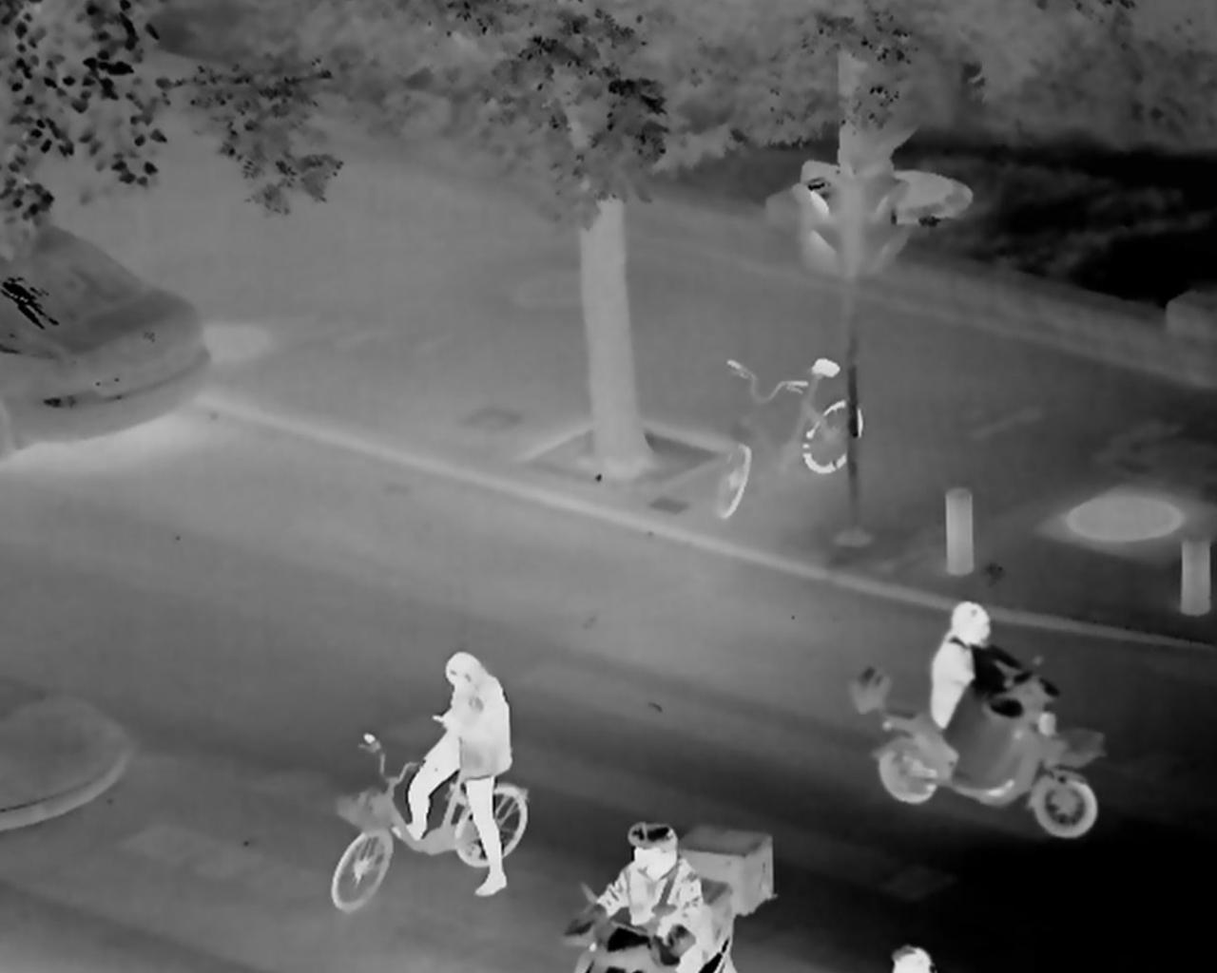person: (400, 648, 513, 898), (929, 602, 1033, 801), (583, 820, 705, 973)
